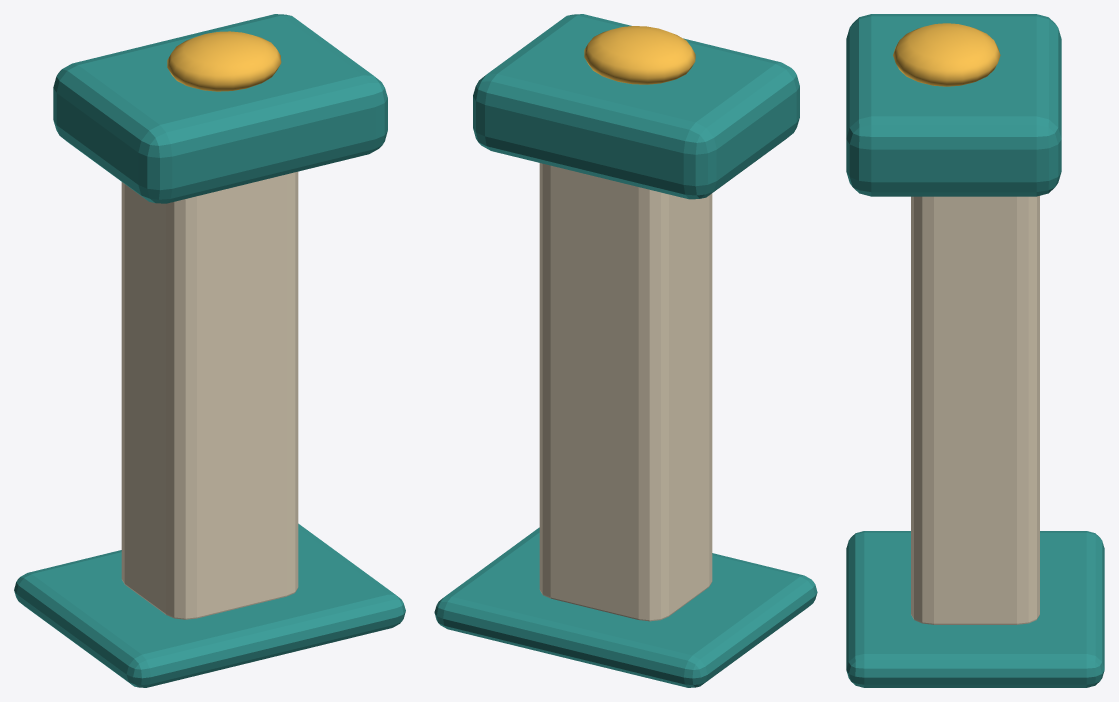
Rendered from station.glb.
3 views of the same model, side by side, from view 1: azimuth 30°, elevation 25°; view 2: azimuth 150°, elevation 25°; view 3: azimuth 270°, elevation 25° (orthographic). The views are drawn at different scales.
Parts seen in each view (by area): view 1: GEO-station; view 2: GEO-station; view 3: GEO-station.
Part boxes in pixels (bbox=[...]): GEO-station: bbox=[14, 14, 405, 687]; GEO-station: bbox=[434, 14, 817, 687]; GEO-station: bbox=[846, 14, 1104, 687].
Bounding box in the file's own units: 0.45 × 0.908 × 0.36.
